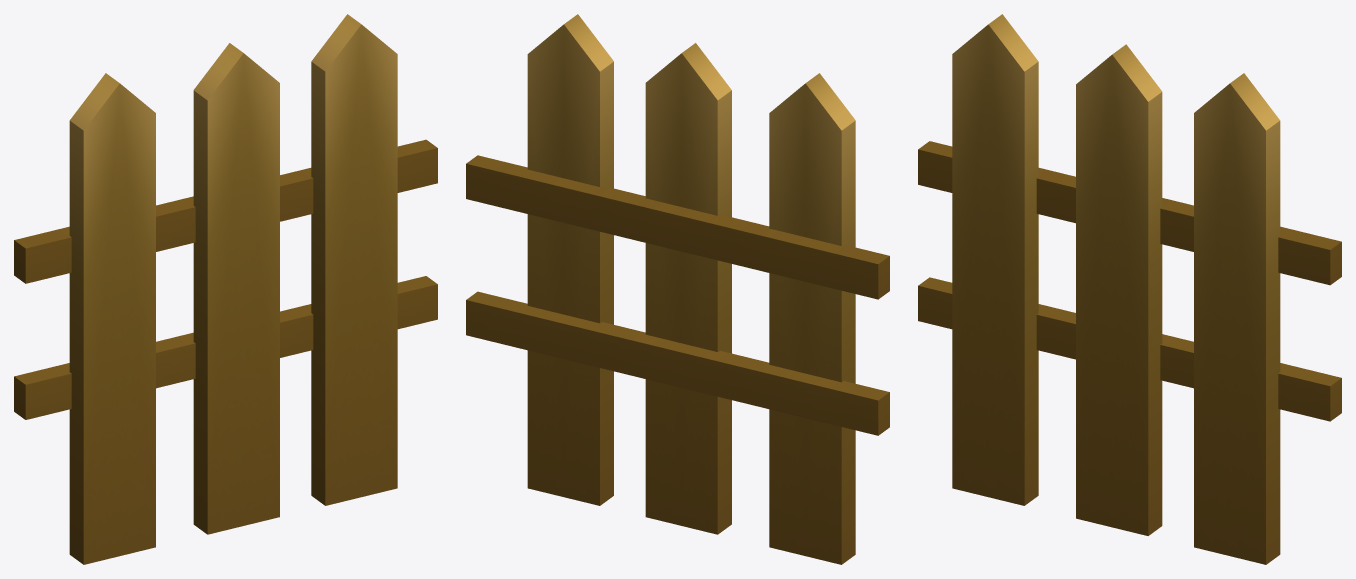
File: Fence_1.fbx
The picture shows the model from 3 angles, left to right: view 1: azimuth 30°, elevation 25°; view 2: azimuth 150°, elevation 25°; view 3: azimuth 330°, elevation 25°; orthographic projection.
Parts seen in each view (by area): view 1: pCube19; view 2: pCube19; view 3: pCube19.
Part boxes in pixels (x1=…): pCube19: x1=14, y1=14, x2=437, y2=564; pCube19: x1=466, y1=14, x2=889, y2=564; pCube19: x1=918, y1=14, x2=1341, y2=564.
Bounding box in the file's own units: 124 × 136 × 12.24.
